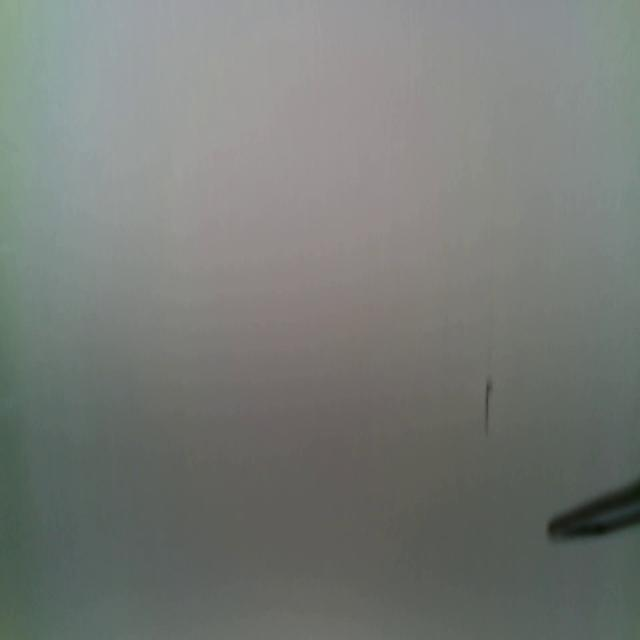hole: (483, 379, 492, 430)
